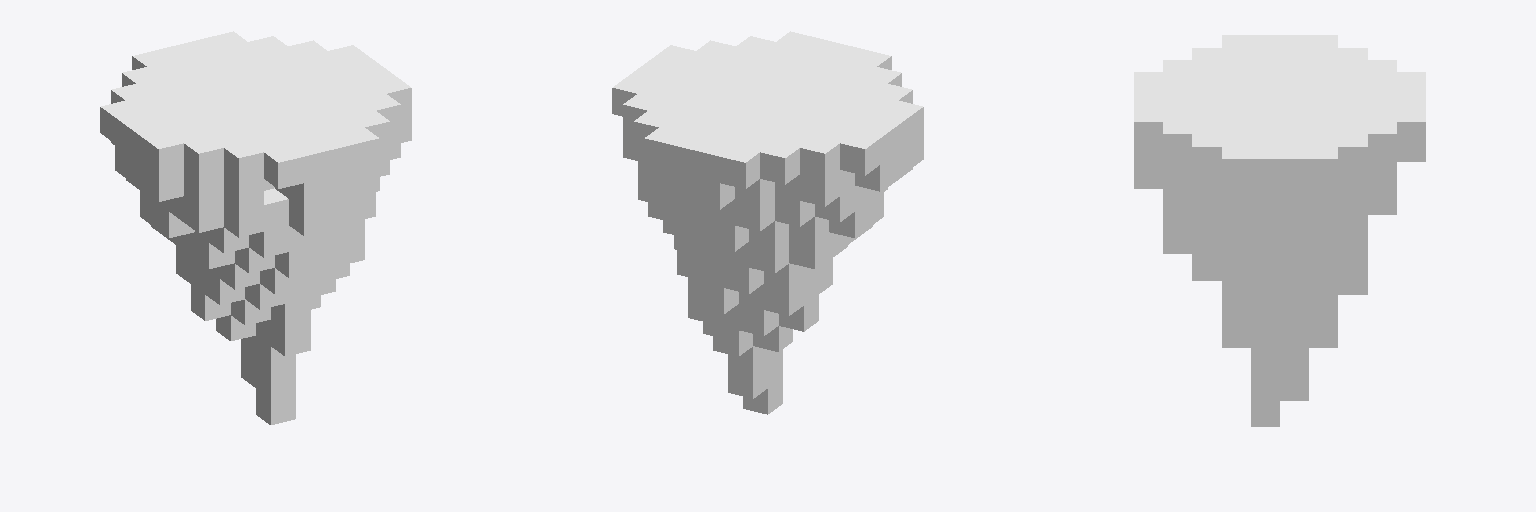
The model's file is tail.obj.
The picture shows the model from 3 angles: view 1: azimuth 30°, elevation 25°; view 2: azimuth 150°, elevation 25°; view 3: azimuth 270°, elevation 25°; orthographic projection.
Parts seen in each view (by area): view 1: tail; view 2: tail; view 3: tail.
Boxes of the visible parts, x1=… form: tail: x1=100, y1=31, x2=411, y2=424; tail: x1=612, y1=31, x2=923, y2=414; tail: x1=1134, y1=35, x2=1425, y2=426.
Bounding box in the file's own units: 0.8333 × 1 × 0.8333.